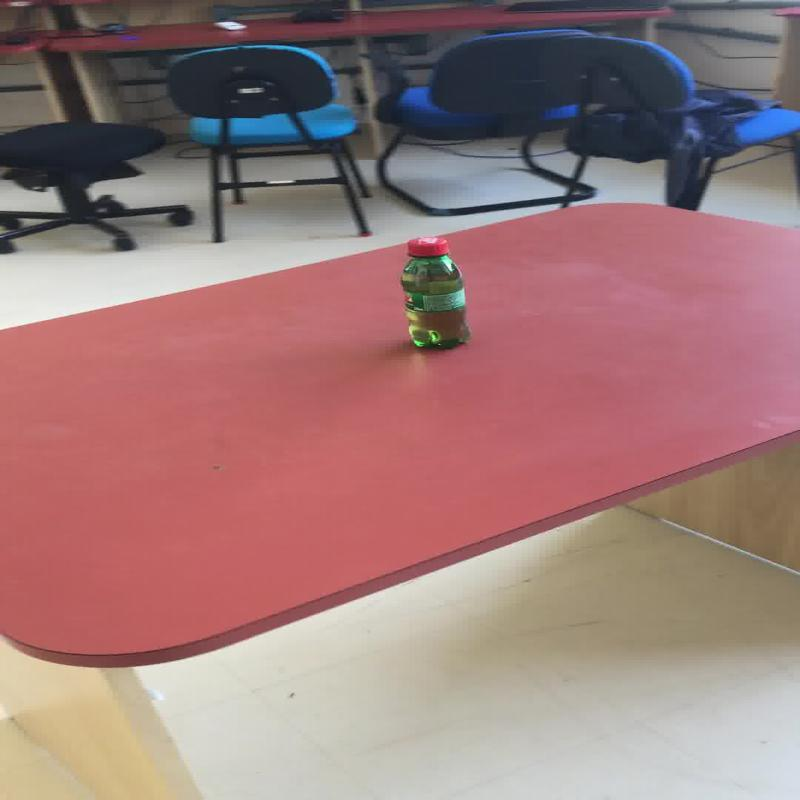guarana: (398, 235, 470, 348)
